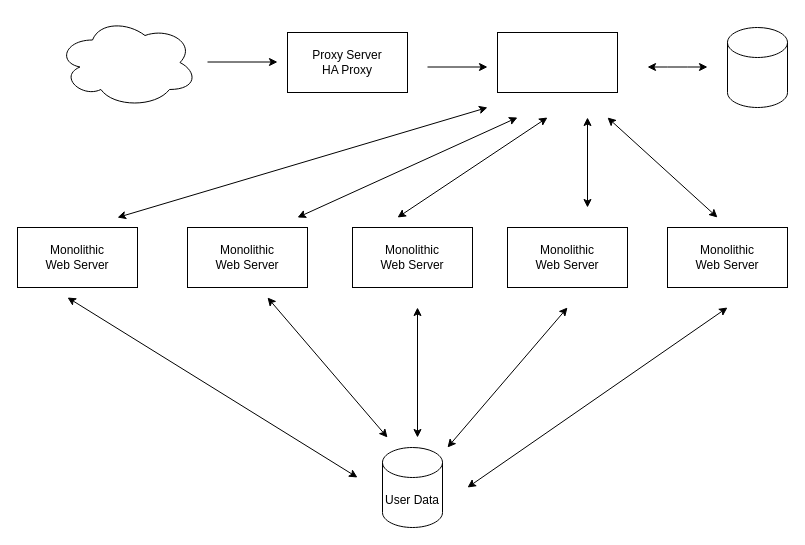
Some shapes in this 805 by 545 pixel diagram are drawn without their labels. The shapes that lost their labels are listed below. From the top down, each one's box as (x1, y1, x2, y2) in pixels, then its label:
(56, 16, 198, 108): Internet
(496, 32, 618, 92): Load balances nginx
(726, 26, 788, 108): Auth
